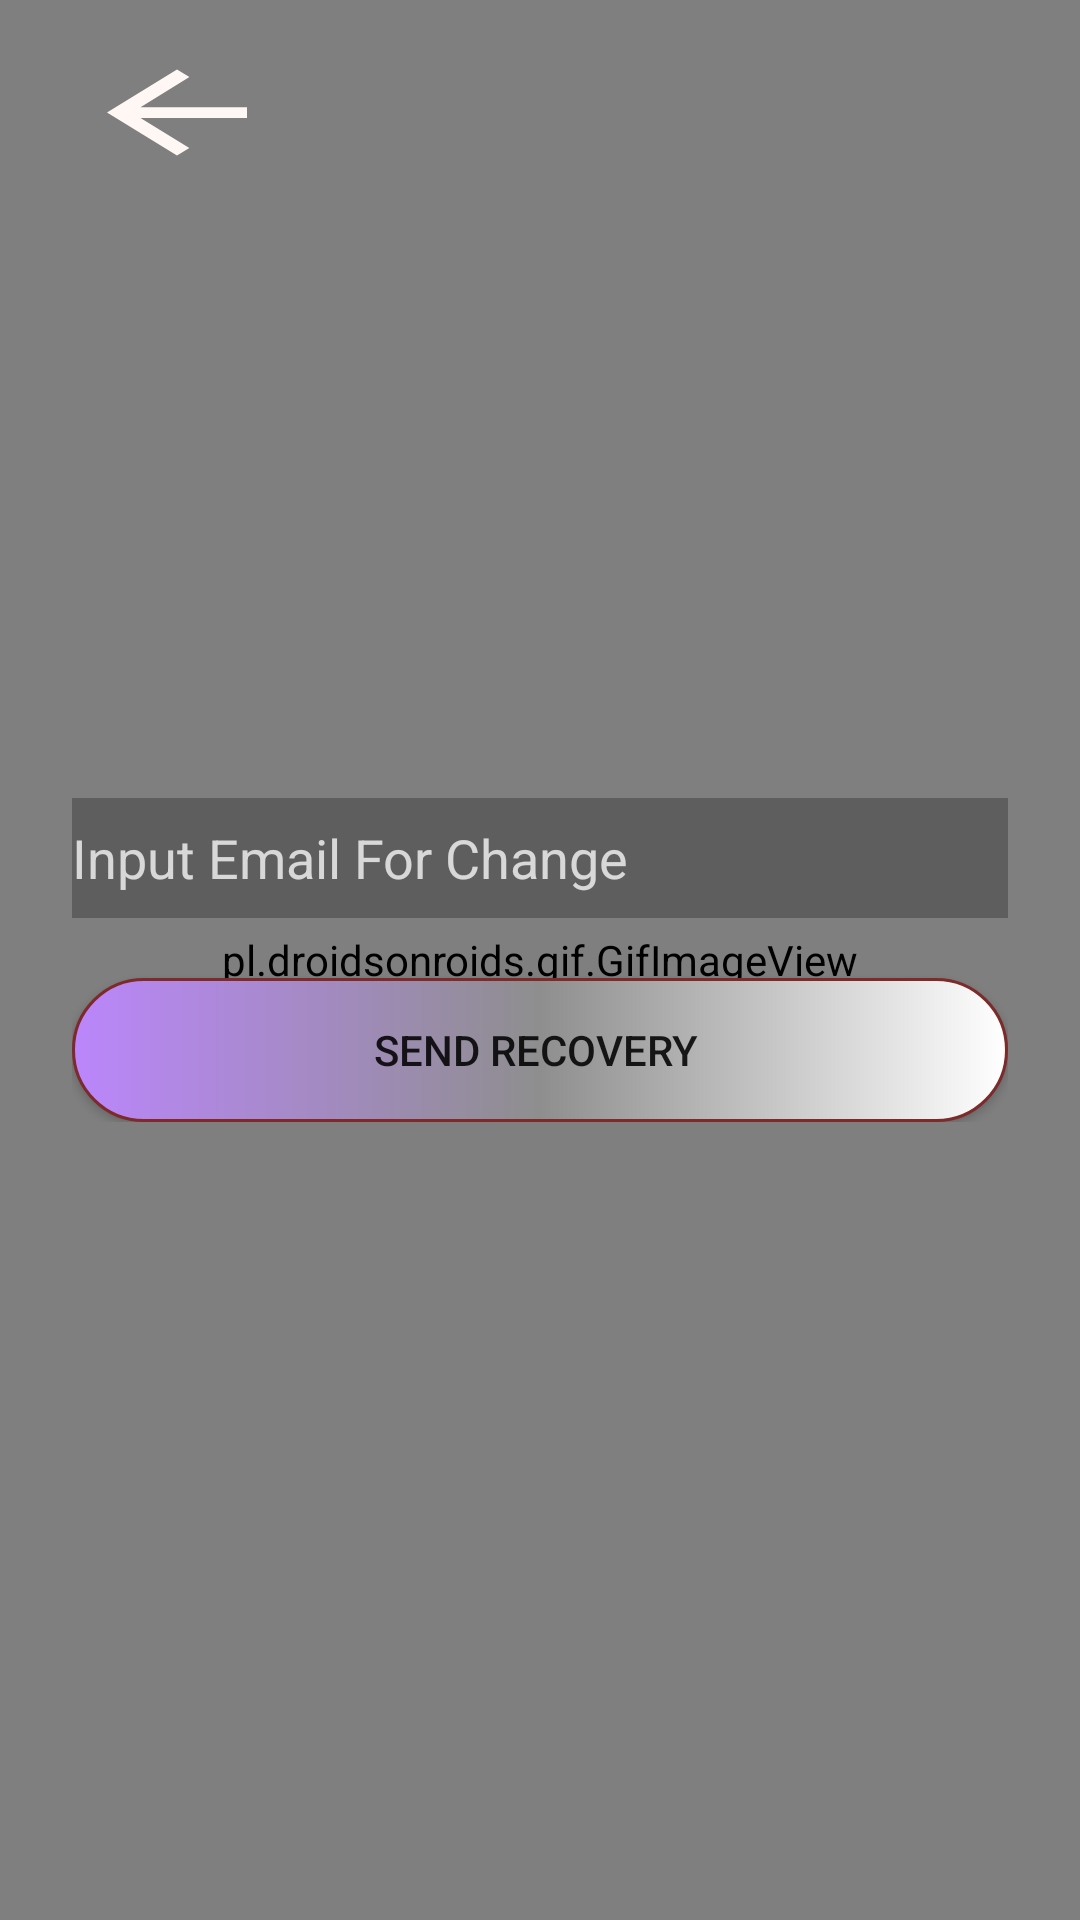

Icons on this 1080×1920 Android screen, each with its box as [left=x1, top=y1, right=x2, bottom=y2]:
back: [left=107, top=69, right=247, bottom=156]
